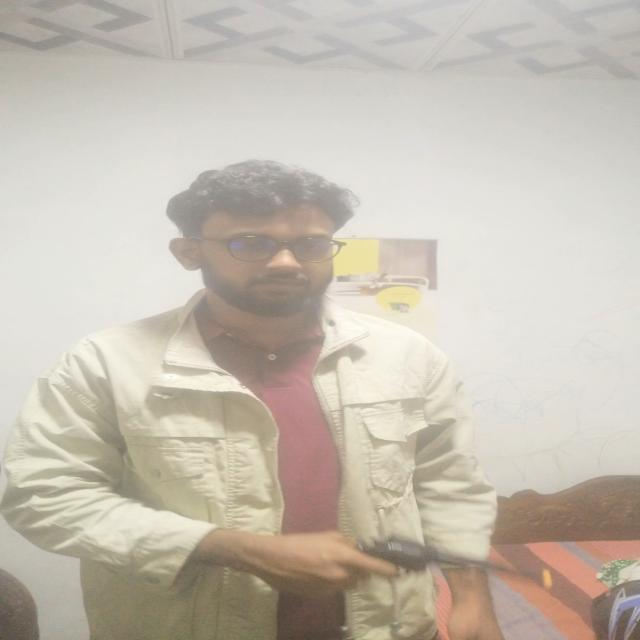Gun_Holder: (301, 533, 554, 609)
Jacket_Wearer: (0, 292, 507, 640)
Person: (4, 152, 518, 640)
